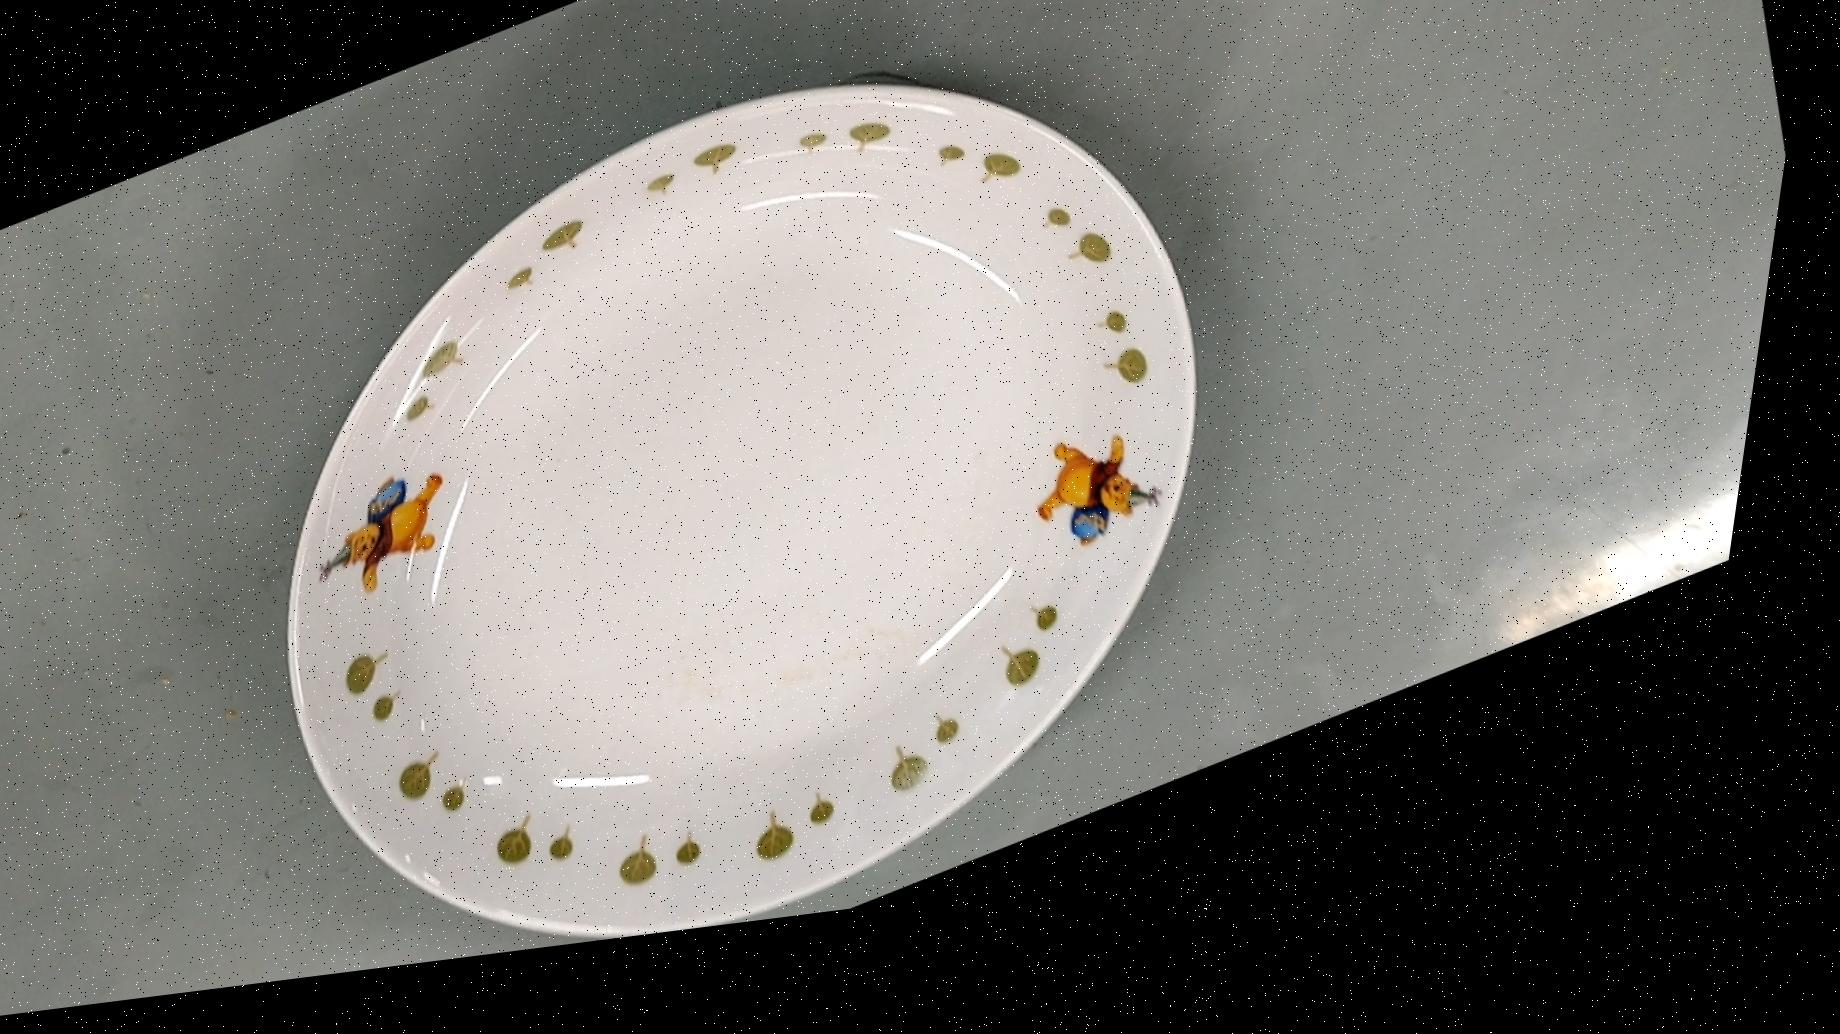plate: (163, 0, 1364, 1006)
